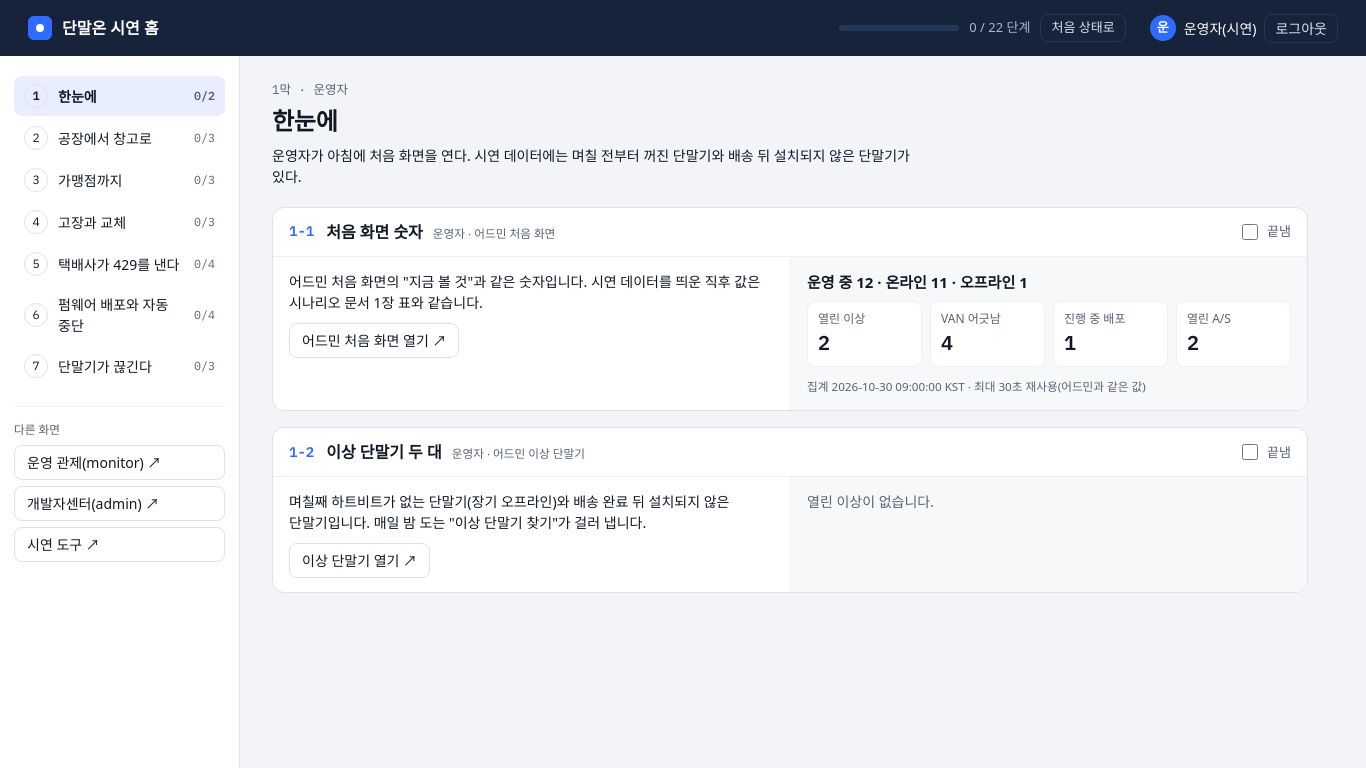
Test case: 시연 홈 틀 (보강 10, decisions/0092) › "끝냄"을 누르면 진행률이 오르고, 처음 상태로 하면 0
Click the checkbox labelled "끝냄" in the row of "운영자 · 어드민 처음 화면": (1250, 232) [1242,224,1258,240]
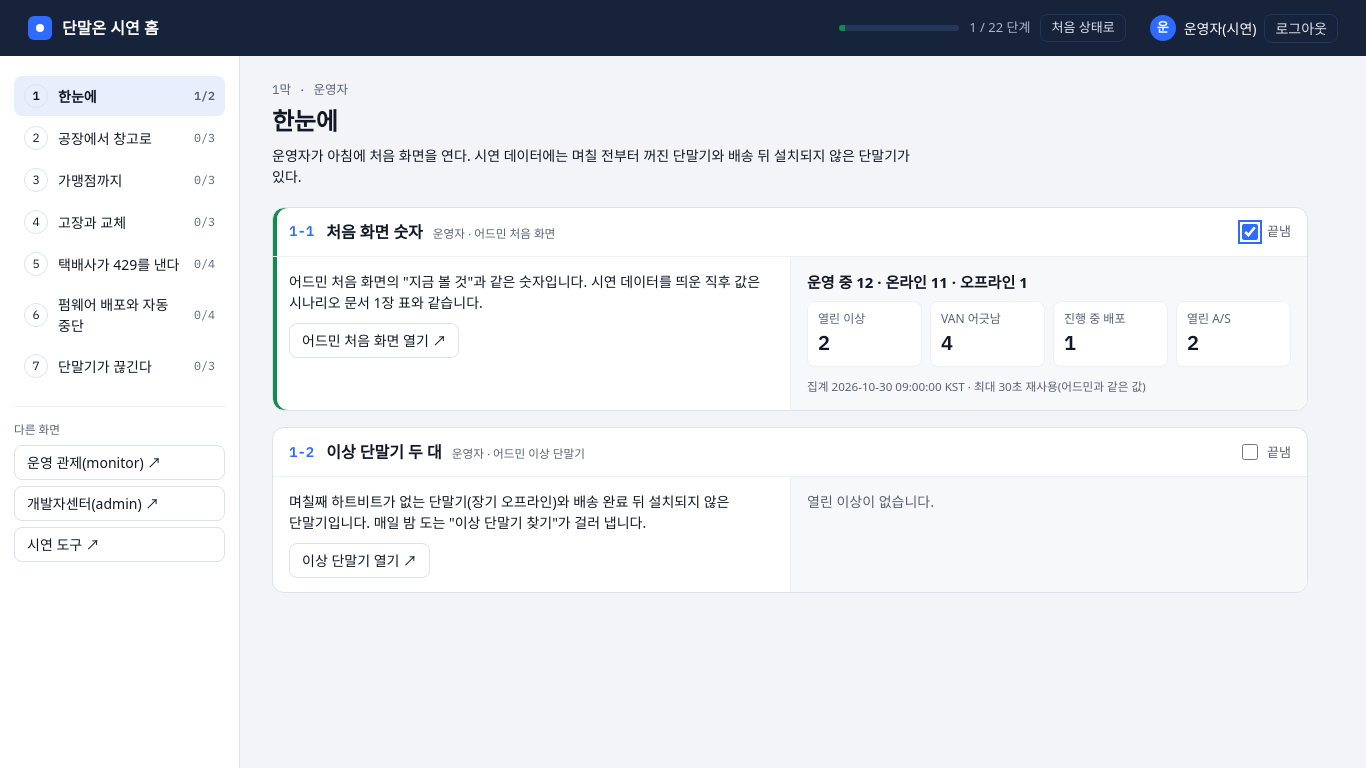
Result: the text "1 / 22 단계" is shown at [969,18,1030,38]
Result: the link "1 한눈에 1/2" is shown at [14,76,225,116]
Click the button "처음 상태로": (1083, 28) [1040,14,1126,42]
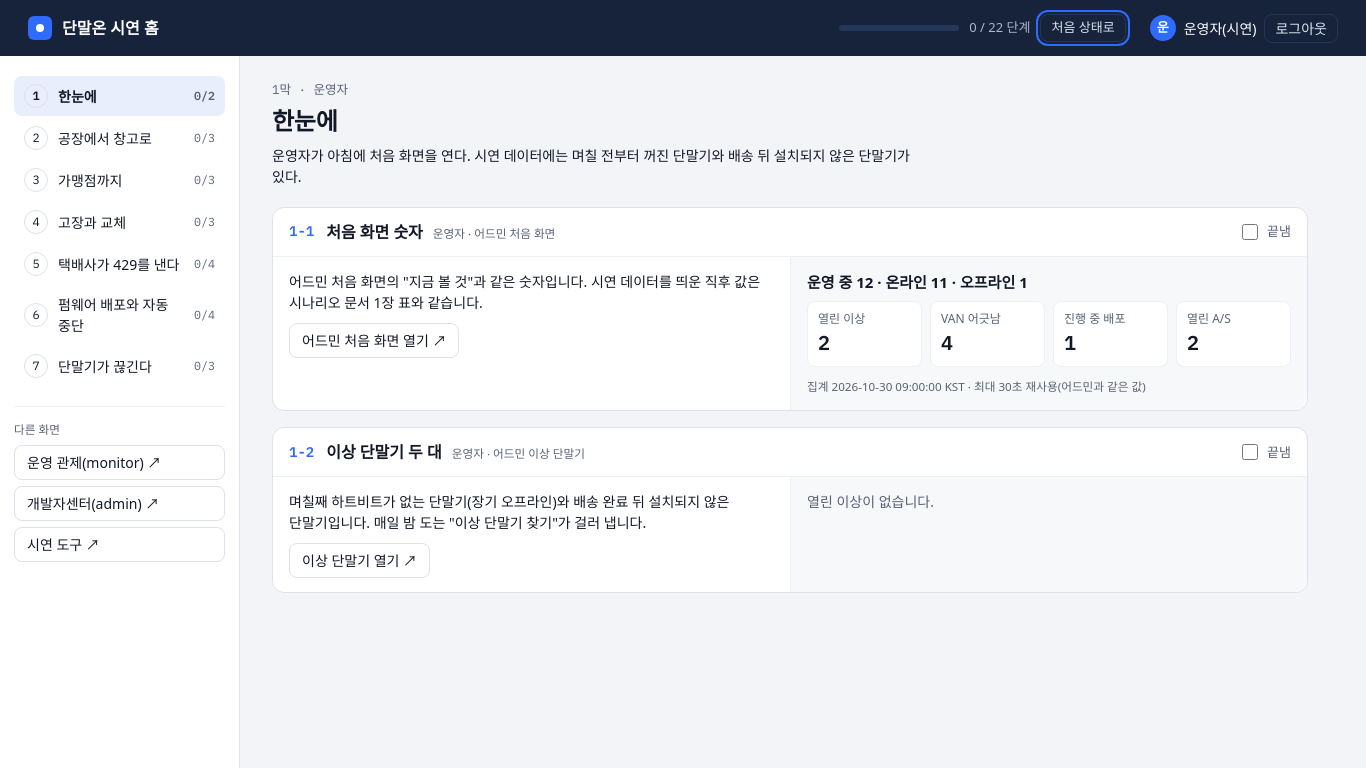
Result: the text "0 / 22 단계" is shown at [969,18,1030,38]
